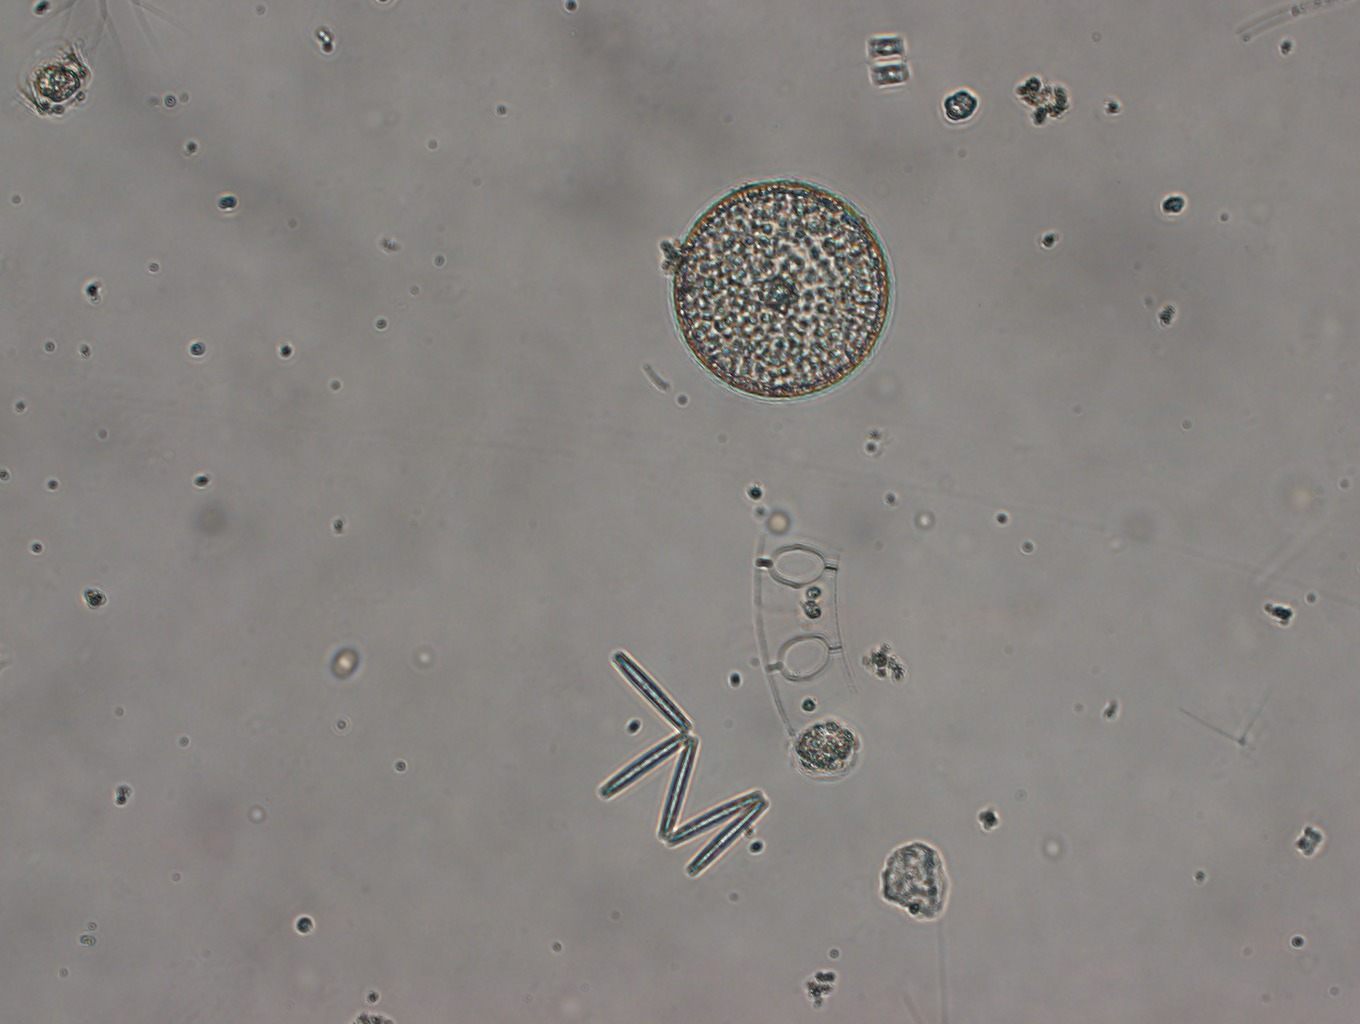coscinodiscus: (668, 179, 891, 402)
eucampia: (754, 534, 859, 737)
thalassionema nitzschioides: (593, 649, 773, 879)
